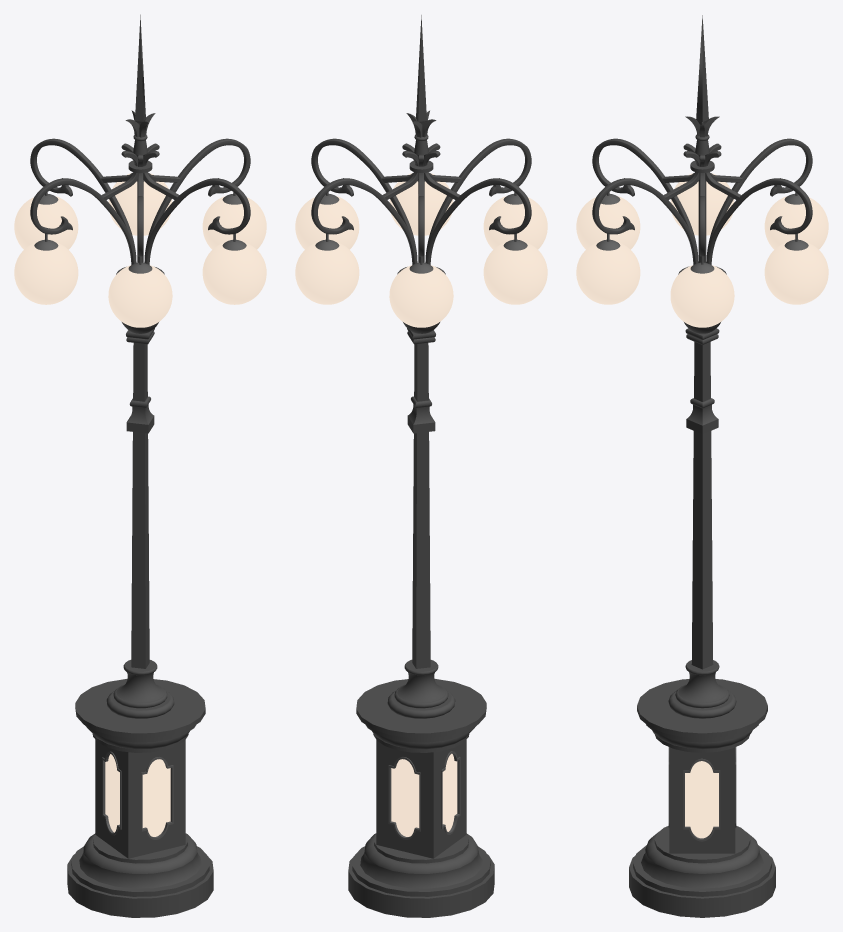
File: lamps-2.gltf
3 renders of one model, left to right at view 1: azimuth 30°, elevation 25°; view 2: azimuth 150°, elevation 25°; view 3: azimuth 270°, elevation 25°, orthographic.
Visible parts, largest first — view 1: 路灯66; view 2: 路灯66; view 3: 路灯66.
Boxes of the visible parts, x1=… form: 路灯66: x1=14, y1=14, x2=266, y2=917; 路灯66: x1=295, y1=15, x2=547, y2=917; 路灯66: x1=576, y1=15, x2=828, y2=917.
Size of the model in its own units: 2.9 by 9.9 by 2.6.
